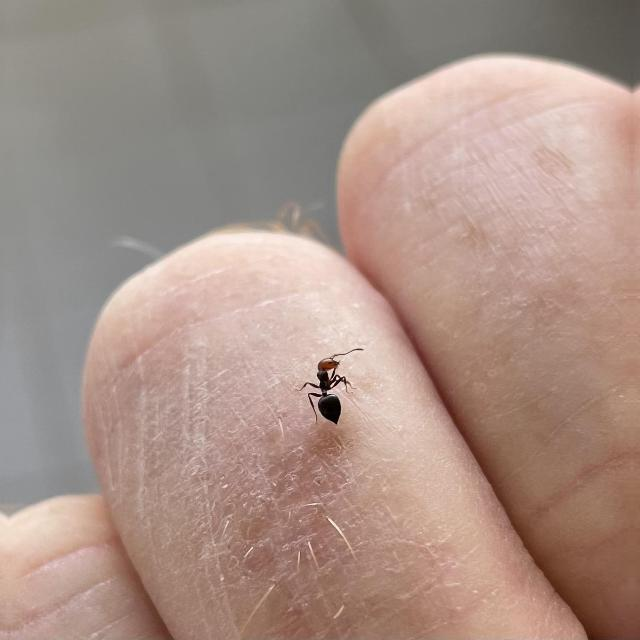Crematogaster: (301, 344, 354, 421)
